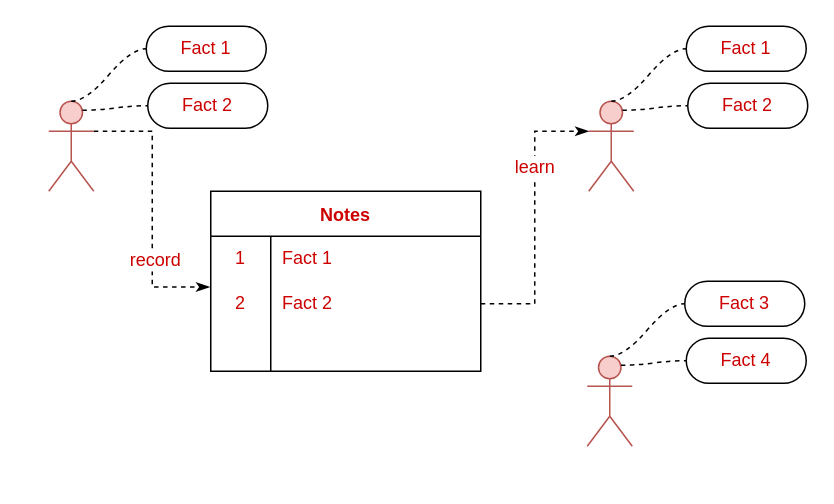
Some shapes in this 834 by 504 pixel diagram are drawn without their labels. Each missing label, with the centre of its shape:
"Merchant 1" belongs at point 70,145.
"Merchant 2" belongs at point 610,145.
"Merchant 3" belongs at point 609,400.
